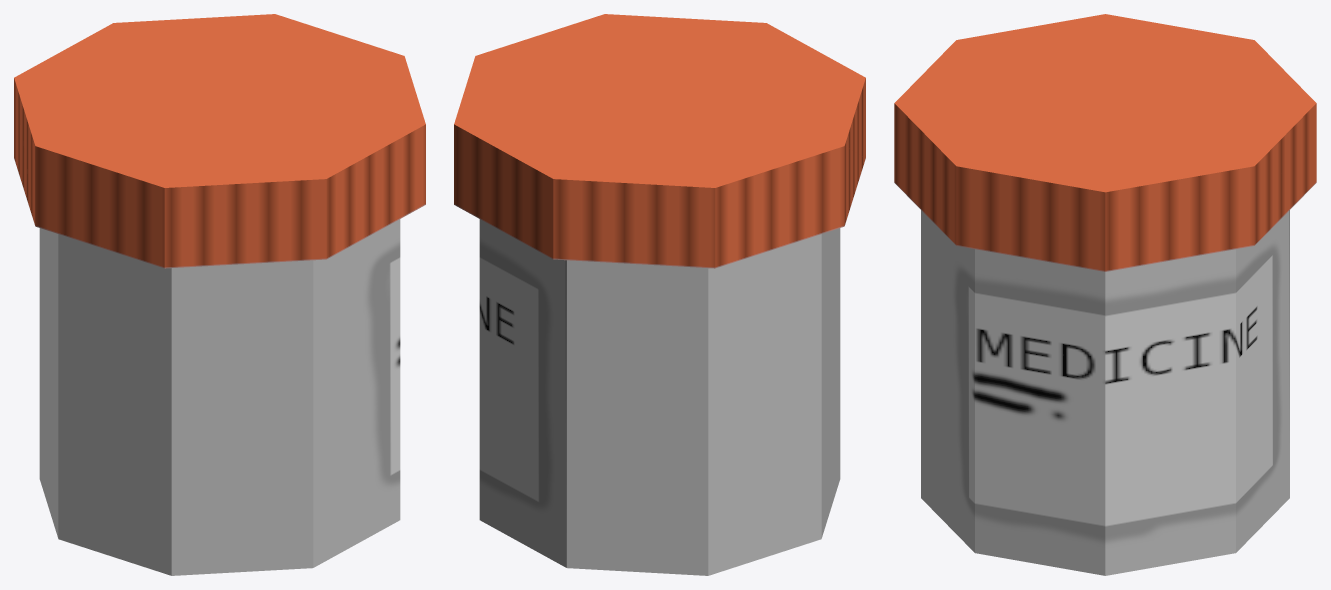
Rendered from medicine.glb.
3 renders of one model, left to right at view 1: azimuth 30°, elevation 25°; view 2: azimuth 150°, elevation 25°; view 3: azimuth 270°, elevation 25°, orthographic.
Parts seen in each view (by area): view 1: Cylinder.001; view 2: Cylinder.001; view 3: Cylinder.001.
Part boxes in pixels (left/top/right/bottom): Cylinder.001: left=14, top=14, right=425, bottom=575; Cylinder.001: left=454, top=14, right=865, bottom=575; Cylinder.001: left=894, top=14, right=1316, bottom=575.
Size of the model in its own units: 2.4 by 2.48 by 2.4.
Materials: 1 (1 with a texture image).
